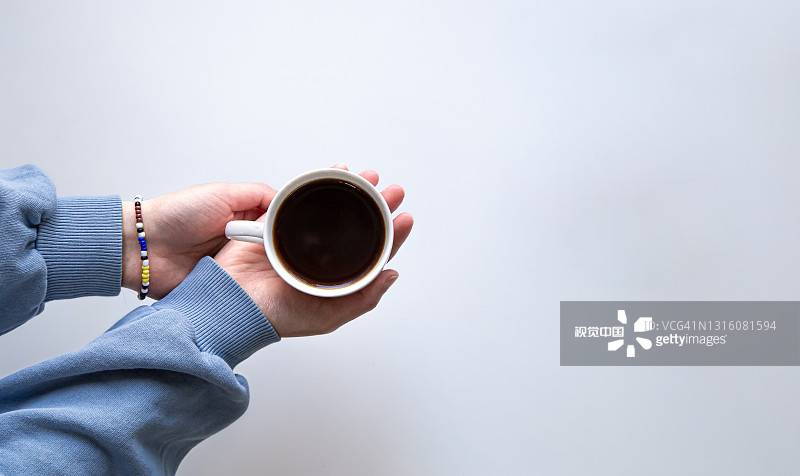no-phone: (211, 149, 439, 345)
